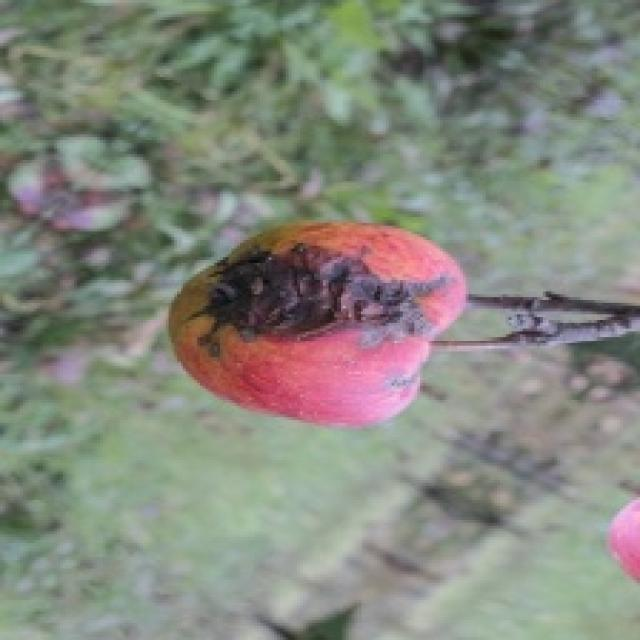rotten_apple: (170, 222, 463, 424)
